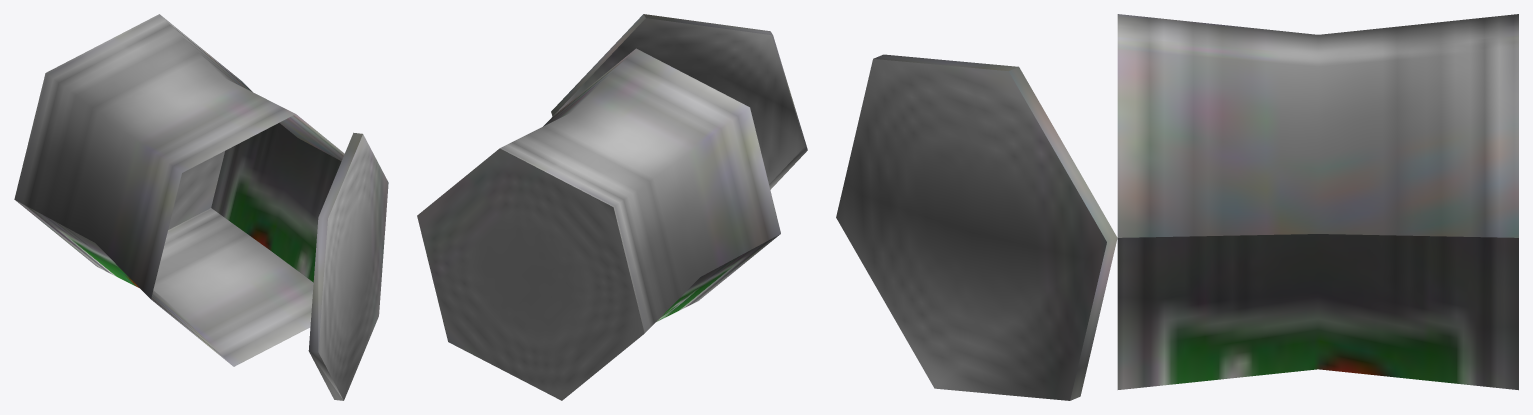
File: can.glb
3 views of the same model, side by side, from view 1: azimuth 30°, elevation 25°; view 2: azimuth 150°, elevation 25°; view 3: azimuth 270°, elevation 25° (orthographic). The views are drawn at different scales.
Parts seen in each view (by area): view 1: body, inside, top_lid, bottom_lid; view 2: body, bottom_lid, top_lid; view 3: body, top_lid.
Part boxes in pixels (left/top/right/bottom): body: left=14, top=14, right=295, bottom=298; inside: left=151, top=114, right=344, bottom=366; top_lid: left=308, top=132, right=388, bottom=400; bottom_lid: left=168, top=151, right=224, bottom=229; body: left=500, top=48, right=780, bottom=332; bottom_lid: left=417, top=148, right=644, bottom=400; top_lid: left=551, top=14, right=807, bottom=189; body: left=1117, top=14, right=1518, bottom=390; top_lid: left=836, top=54, right=1117, bottom=400.
Size of the model in its own units: 0.0963 by 0.0935 by 0.1657.
3 materials, 3 textured.
